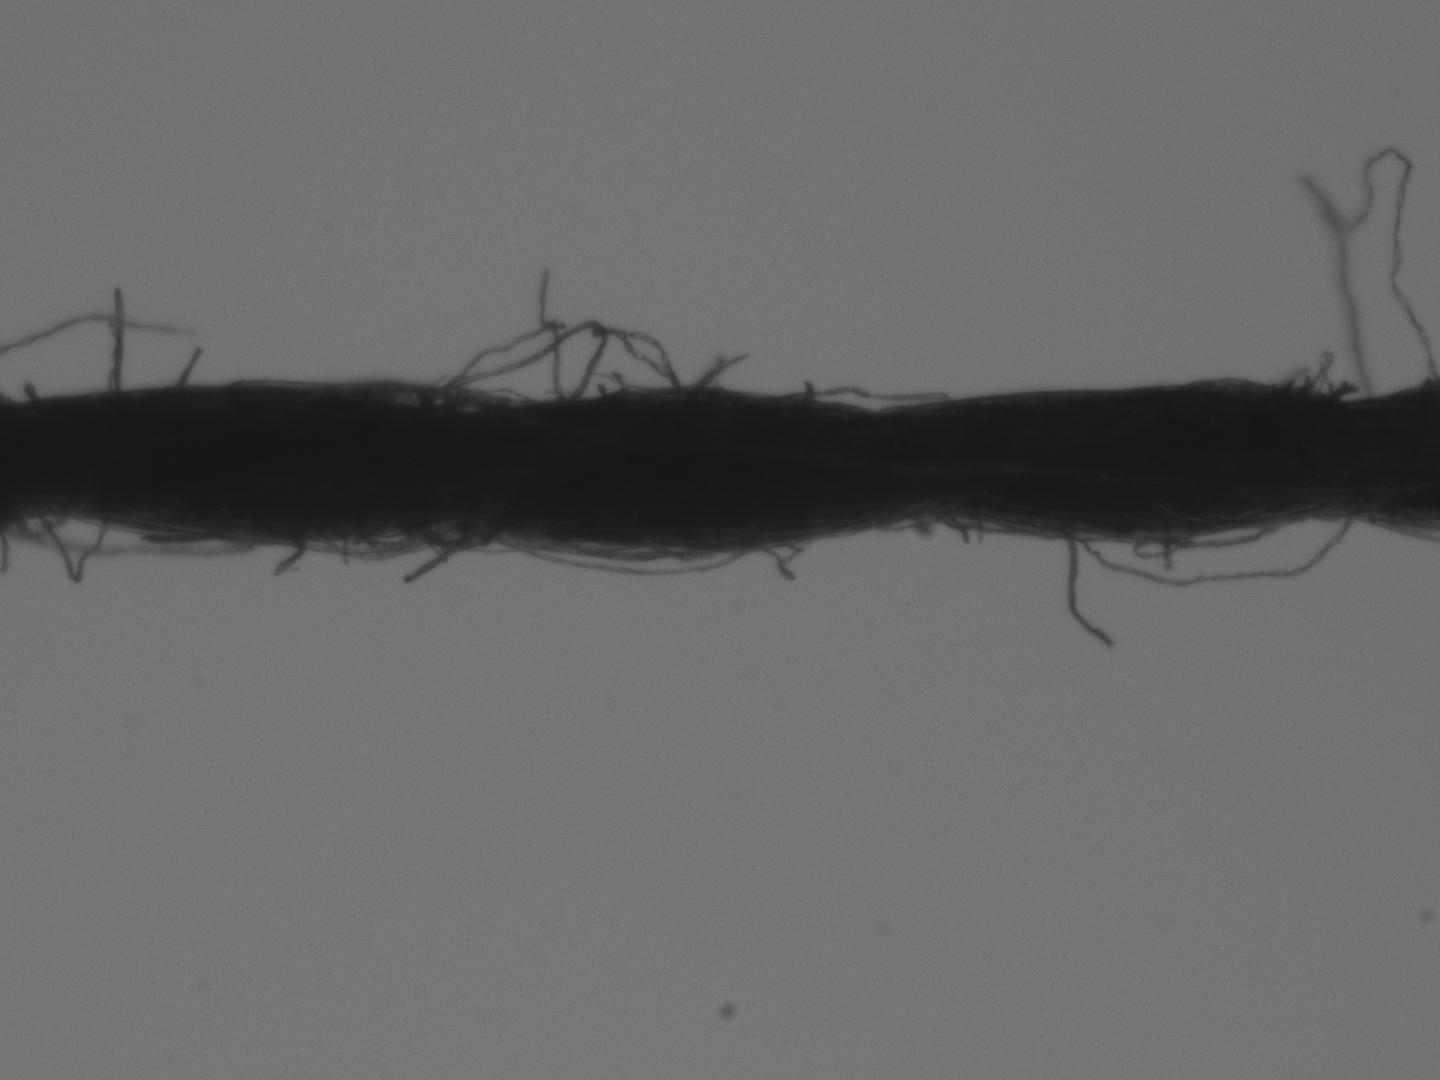loop_fiber: (1075, 516, 1355, 587), (425, 323, 604, 403), (488, 529, 746, 579), (35, 516, 107, 582), (320, 523, 429, 562), (773, 388, 947, 408), (1133, 522, 1268, 546), (412, 515, 493, 552), (1279, 353, 1344, 399), (543, 535, 659, 557), (1133, 523, 1193, 558), (871, 505, 943, 532), (637, 537, 715, 559), (9, 513, 67, 542)
protruding_fiber: (1062, 520, 1110, 653), (686, 344, 757, 393), (403, 540, 463, 588), (108, 286, 125, 390), (171, 348, 198, 388), (274, 539, 300, 579)
